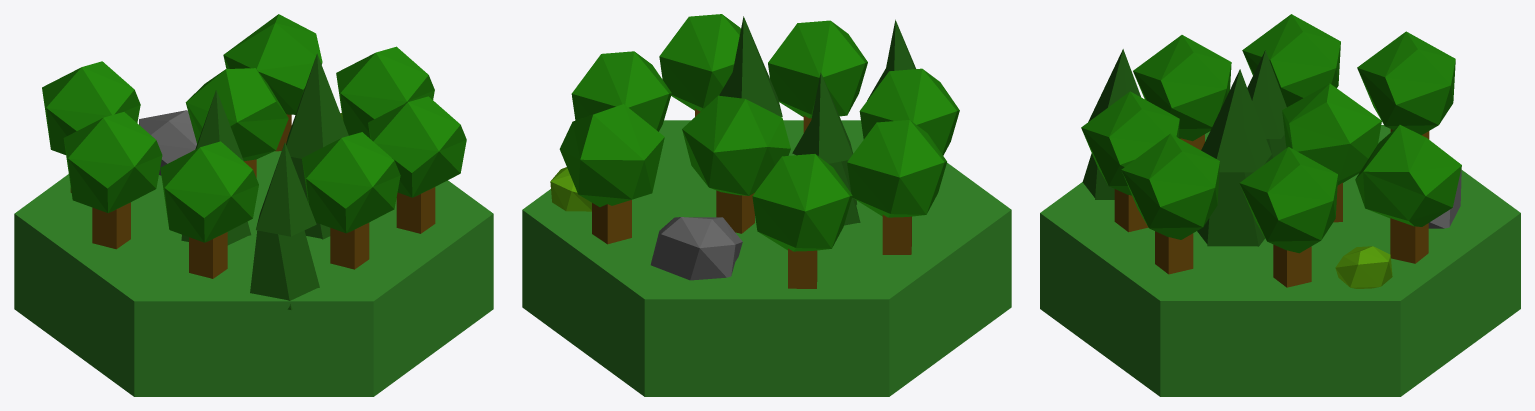
The model's file is Wood1Finalfbx.fbx.
The picture shows the model from 3 angles, left to right: view 1: azimuth 30°, elevation 25°; view 2: azimuth 150°, elevation 25°; view 3: azimuth 270°, elevation 25°; orthographic projection. The views are drawn at different scales.
Visible parts, largest first — view 1: Cylinder; view 2: Cylinder; view 3: Cylinder.
Boxes of the visible parts, x1,y1,x2,y2 form: Cylinder: (14,14,493,396); Cylinder: (522,14,1011,396); Cylinder: (1040,14,1520,396).
Bounding box in the file's own units: 1.73 × 1.2 × 2.
